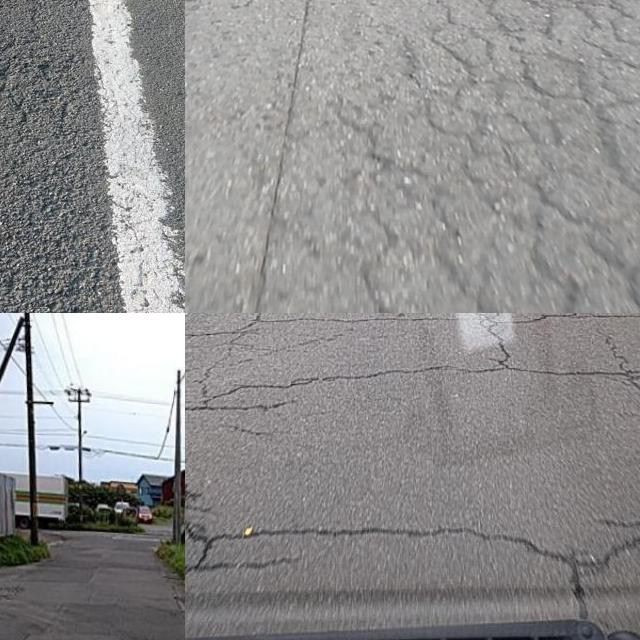Melintang: (218, 518, 640, 576), (225, 350, 640, 400)
Memanjang: (562, 313, 640, 413)
Retak Buaya: (339, 0, 640, 313), (0, 33, 65, 137)
